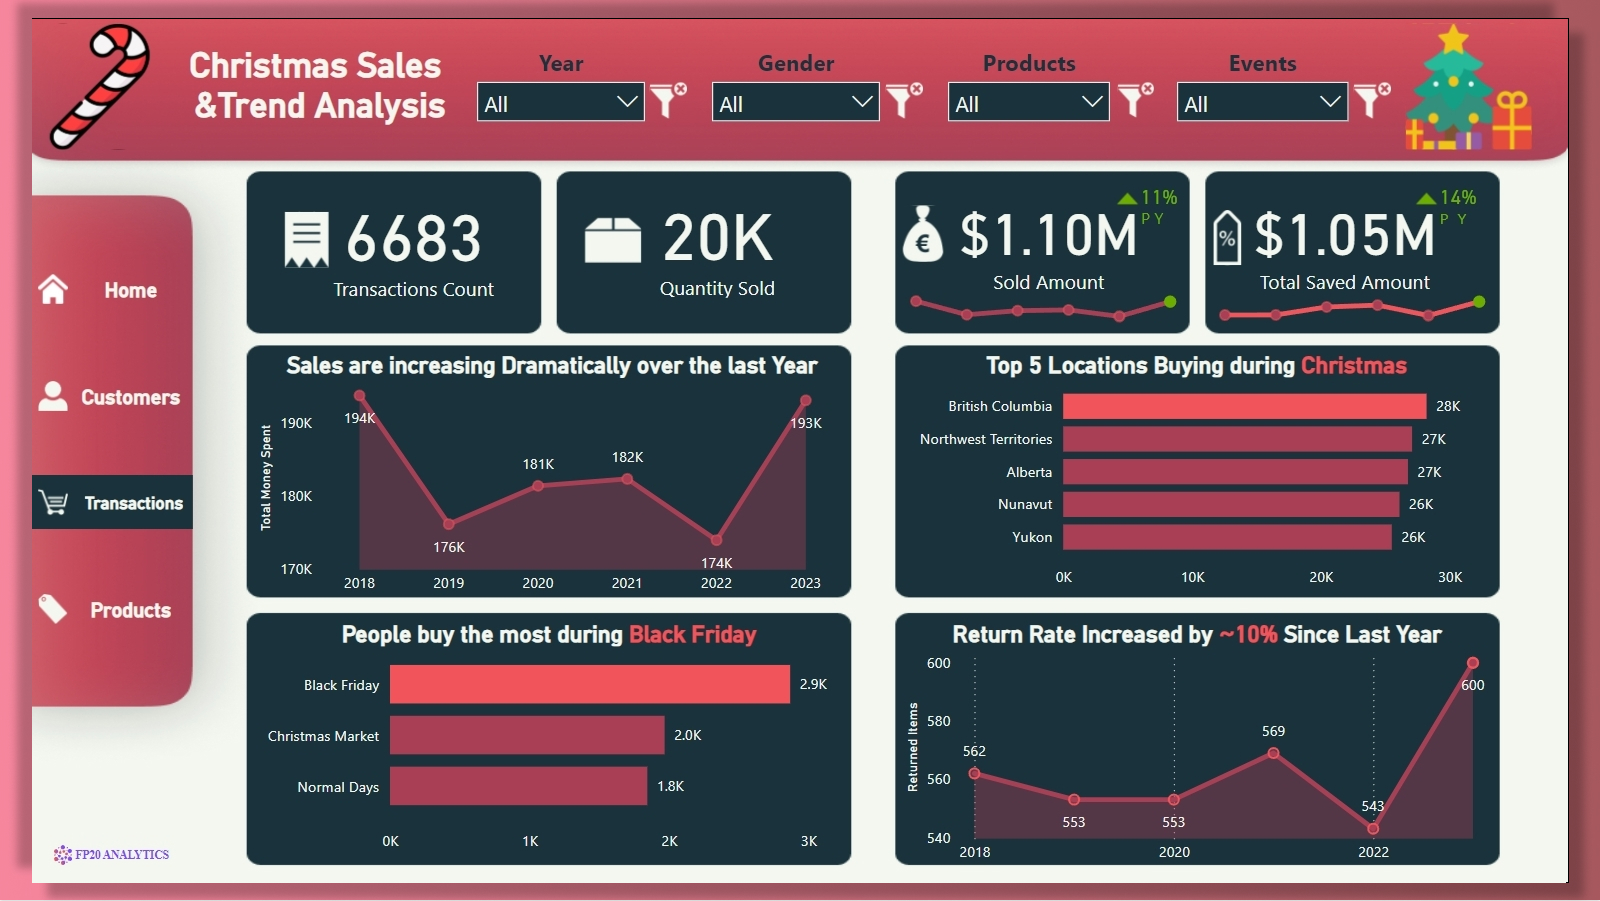

What the dashboard file says about the page in this screenshot:
{"tool":"powerbi","page":{"name":"Transactions","canvas":[1280,720],"ordinal":2},"visuals":[{"type":"textbox","box":[61.1,16.6,358.3,87],"z":0},{"type":"actionButton","box":[0,291.8,134,45],"z":1000},{"type":"actionButton","box":[0,674.4,130,45.6],"z":4000},{"type":"actionButton","box":[0,0,115,112.9],"z":5000},{"type":"actionButton","box":[1141.2,0,115,112.9],"z":6000},{"type":"actionButton","box":[0,380,134,45],"z":7000},{"type":"actionButton","box":[0,469.1,134,45],"z":8000},{"type":"textbox","box":[183.6,495.5,495.5,31.8],"z":9000},{"type":"actionButton","box":[0,202.7,134,45],"z":10000},{"type":"card","title":"Transactions Count","fields":{"Values":["Count(CHRISTMAS SALES.Transaction ID)"]},"box":[244.6,133.6,146.4,105.5],"z":13000},{"type":"card","title":"Customers Average Age","fields":{"Values":["Sum(CHRISTMAS SALES.Quantity)"]},"box":[506.4,133.6,129.1,103.6],"z":14000},{"type":"card","fields":{"Values":["#Measures.Total Saved Amount"]},"box":[999,129,190,110],"z":15000},{"type":"card","fields":{"Values":["#Measures.Sold Amount"]},"box":[756,129,183,110],"z":16000},{"type":"lineChart","fields":{"Y":["Sum(CHRISTMAS SALES.Total Price)"],"Category":["CHRISTMAS SALES.Date.Variation.Date Hierarchy.Year","CHRISTMAS SALES.Date.Variation.Date Hierarchy.Quarter","CHRISTMAS SALES.Date.Variation.Date Hierarchy.Month","CHRISTMAS SALES.Date.Variation.Date Hierarchy.Day"]},"box":[184.5,292.7,495.5,195.5],"z":17000},{"type":"textbox","box":[187.3,271.8,491.8,32.7],"z":18000},{"type":"clusteredBarChart","fields":{"Category":["CHRISTMAS SALES.Event"],"Y":["CountNonNull(CHRISTMAS SALES.Transaction ID)"]},"box":[183.6,508.2,495.5,194.5],"z":19000},{"type":"lineChart","fields":{"Y":["Sum(CHRISTMAS SALES.Total Price)"],"Category":["CHRISTMAS SALES.Date.Variation.Date Hierarchy.Year"]},"box":[726.9,221.6,231.8,31.8],"z":23000},{"type":"card","fields":{"Values":["#Measures.SalesGrowthPercentage"]},"box":[916.4,134.1,45.3,30],"z":24000},{"type":"actionButton","box":[900,136.3,32.4,25.9],"z":25000},{"type":"textbox","box":[903.1,151.5,60,35.5],"z":26000},{"type":"lineChart","fields":{"Category":["CHRISTMAS SALES.Date.Variation.Date Hierarchy.Year"],"Y":["Sum(CHRISTMAS SALES.Discount Amount)"]},"box":[984.5,221.8,231.8,30.9],"z":27000},{"type":"actionButton","box":[715,148,55,61],"z":28000},{"type":"actionButton","box":[969,154,54,55],"z":29000},{"type":"card","fields":{"Values":["#Measures.SavedGrowthPercentage"]},"box":[1165.6,134.1,45.3,30],"z":30000},{"type":"actionButton","box":[1149.1,136.3,32.4,25.9],"z":31000},{"type":"textbox","box":[1154.5,151.5,60,35.5],"z":32000},{"type":"actionButton","box":[456.4,156.4,55.5,55.5],"z":33000},{"type":"actionButton","box":[201.9,156.4,55.5,54.5],"z":34000},{"type":"clusteredBarChart","fields":{"Category":["CHRISTMAS SALES.Location"],"Y":["Sum(CHRISTMAS SALES.Total Price)"]},"box":[723.6,288.2,494.5,194.5],"z":35000},{"type":"textbox","box":[723.6,271.8,494.5,31.8],"z":36000},{"type":"lineChart","fields":{"Category":["CHRISTMAS SALES.Year"],"Y":["Sum(CHRISTMAS SALES.Return Flag count)"]},"box":[723.6,517.3,495.5,194.5],"z":37000},{"type":"textbox","box":[723.6,495.5,495.5,31.8],"z":38000},{"type":"slicer","title":"Products","fields":{"Values":["CHRISTMAS SALES.Product Name"]},"box":[753.2,23.6,155,65],"z":38001},{"type":"slicer","title":"Events","fields":{"Values":["CHRISTMAS SALES.Event"]},"box":[944.5,23.6,162.5,65],"z":38002},{"type":"actionButton","box":[707.3,48.3,39.1,39.1],"z":38003},{"type":"slicer","title":"Gender","fields":{"Values":["CHRISTMAS SALES.Gender"]},"box":[557,23.6,160,80],"z":38004},{"type":"actionButton","box":[1097.3,48.3,39.1,39.1],"z":38005},{"type":"actionButton","box":[900.9,48.5,38.2,39.1],"z":38006},{"type":"actionButton","box":[510.9,48.3,39.1,39.1],"z":38007},{"type":"slicer","title":"Year","fields":{"Values":["CHRISTMAS SALES.Year"]},"box":[360.8,23.6,160,80],"z":38008}]}

Visuals, with their boxes in screenshot pixels (x1, y1, x2, y2), scaled from the page's 1280x720 canvas onto the 1600x901 screenshot:
textbox: 76 21 524 130
actionButton: 0 365 168 421
actionButton: 0 844 162 900
actionButton: 0 0 144 141
actionButton: 1426 0 1570 141
actionButton: 0 476 168 532
actionButton: 0 587 168 643
textbox: 230 620 849 660
actionButton: 0 254 168 310
"Transactions Count" card: 306 167 489 299
"Customers Average Age" card: 633 167 794 297
card - #Measures.Total Saved Amount: 1249 161 1486 299
card - #Measures.Sold Amount: 945 161 1174 299
lineChart - Sum(CHRISTMAS SALES.Total Price) x CHRISTMAS SALES.Date.Variation.Date Hierarchy.Year: 231 366 850 611
textbox: 234 340 849 381
clusteredBarChart - CHRISTMAS SALES.Event x CountNonNull(CHRISTMAS SALES.Transaction ID): 230 636 849 879
lineChart - Sum(CHRISTMAS SALES.Total Price) x CHRISTMAS SALES.Date.Variation.Date Hierarchy.Year: 909 277 1198 317
card - #Measures.SalesGrowthPercentage: 1146 168 1202 205
actionButton: 1125 171 1166 203
textbox: 1129 190 1204 234
lineChart - CHRISTMAS SALES.Date.Variation.Date Hierarchy.Year x Sum(CHRISTMAS SALES.Discount Amount): 1231 278 1520 316
actionButton: 894 185 962 262
actionButton: 1211 193 1279 262
card - #Measures.SavedGrowthPercentage: 1457 168 1514 205
actionButton: 1436 171 1477 203
textbox: 1443 190 1518 234
actionButton: 570 196 640 265
actionButton: 252 196 322 264
clusteredBarChart - CHRISTMAS SALES.Location x Sum(CHRISTMAS SALES.Total Price): 904 361 1523 604
textbox: 904 340 1523 380
lineChart - CHRISTMAS SALES.Year x Sum(CHRISTMAS SALES.Return Flag count): 904 647 1524 891
textbox: 904 620 1524 660
"Products" slicer: 942 30 1135 111
"Events" slicer: 1181 30 1384 111
actionButton: 884 60 933 109
"Gender" slicer: 696 30 896 130
actionButton: 1372 60 1420 109
actionButton: 1126 61 1174 110
actionButton: 639 60 688 109
"Year" slicer: 451 30 651 130
